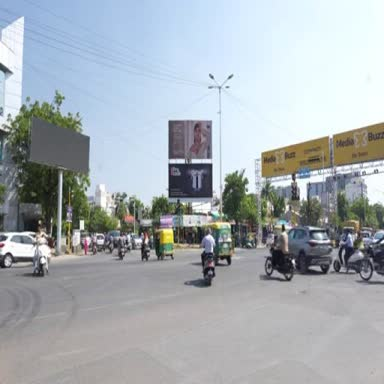Car: (288, 226, 332, 273), (0, 233, 35, 267), (107, 231, 119, 248), (360, 232, 371, 248), (372, 231, 383, 247), (131, 234, 142, 249), (81, 233, 89, 248), (97, 234, 104, 250), (266, 233, 274, 247)
